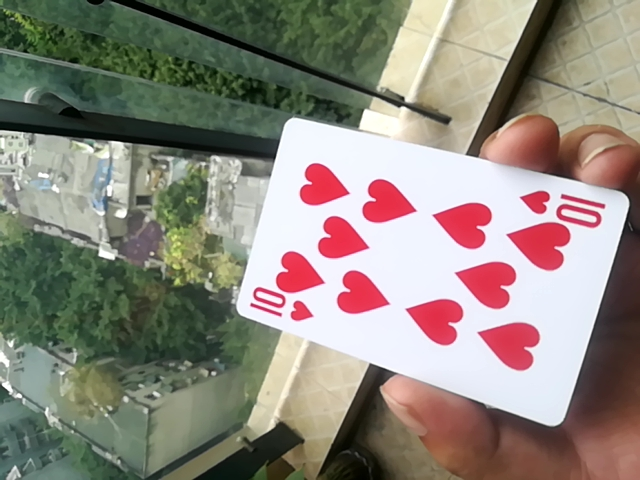hx 10: (231, 113, 631, 426)
